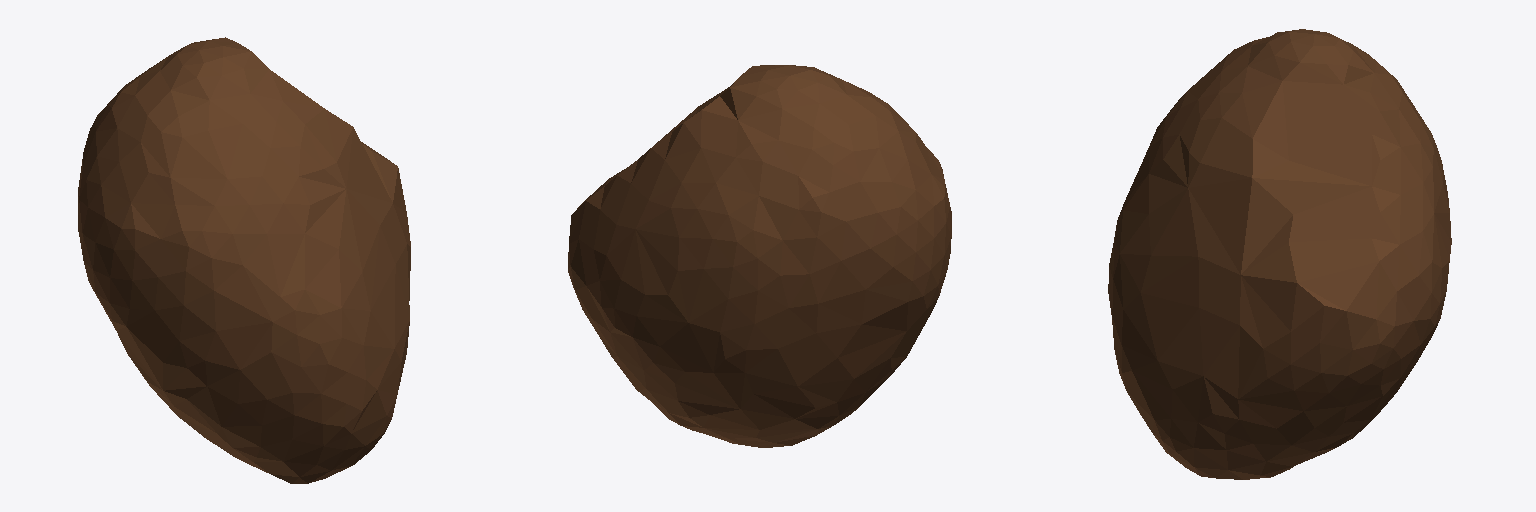
Rendered from Model_656_RH__Medial_cerebellar_nucleus_(Med).obj.
3 views of the same model, side by side, from view 1: azimuth 30°, elevation 25°; view 2: azimuth 150°, elevation 25°; view 3: azimuth 270°, elevation 25° (orthographic).
Bounding box in the file's own units: 0.9705 × 1.15 × 0.8828.